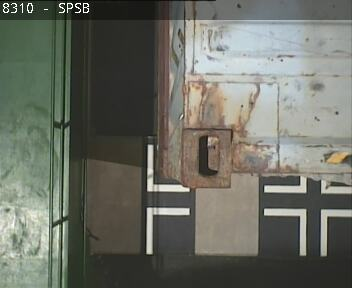groundmarker_1: (145, 146, 190, 256), (262, 207, 348, 254)
